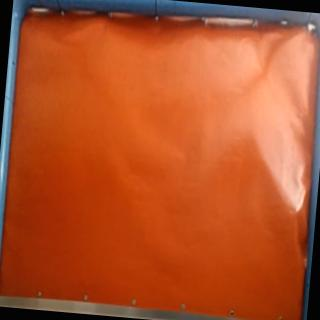Hit-hRxx: (290, 203, 306, 218)
